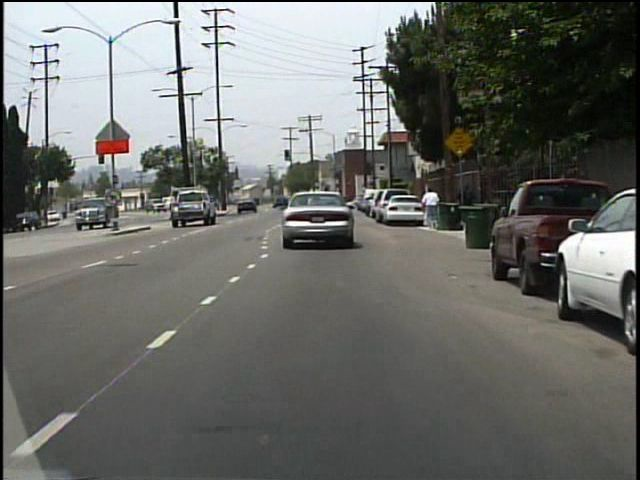person: (421, 187, 440, 232)
